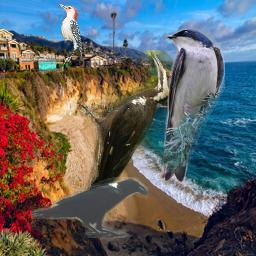Crow: (29, 177, 148, 238)
Swallow: (158, 27, 225, 183)
Woodpecker: (71, 50, 188, 222), (57, 3, 82, 66)
